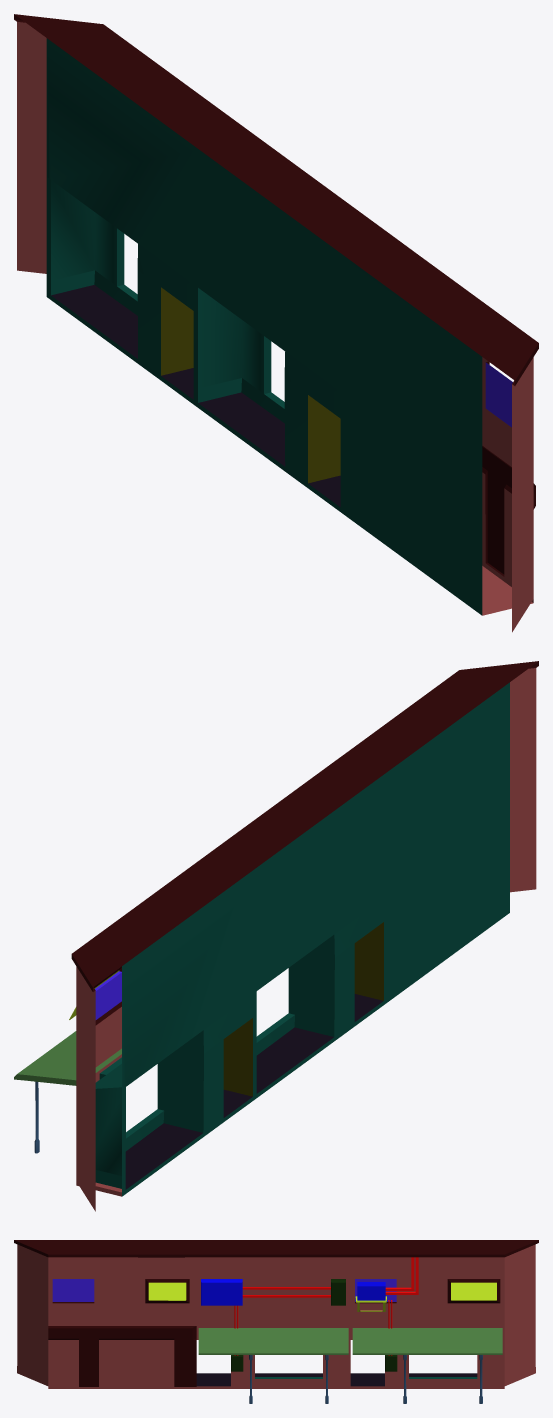
File: store1.FBX
3 views of the same model, one above another, from view 1: azimuth 30°, elevation 25°; view 2: azimuth 150°, elevation 25°; view 3: azimuth 270°, elevation 25° (orthographic). The views are drawn at different scales.
Visible parts, largest first — view 1: wall__tunnel_Corner003; view 2: wall__tunnel_Corner003; view 3: wall__tunnel_Corner003.
Boxes of the visible parts, box(x1,y1,x2,y2) form: wall__tunnel_Corner003: box(14, 14, 538, 632); wall__tunnel_Corner003: box(14, 661, 538, 1211); wall__tunnel_Corner003: box(14, 1240, 538, 1403).
Size of the model in its own units: 117 by 233 by 818.
